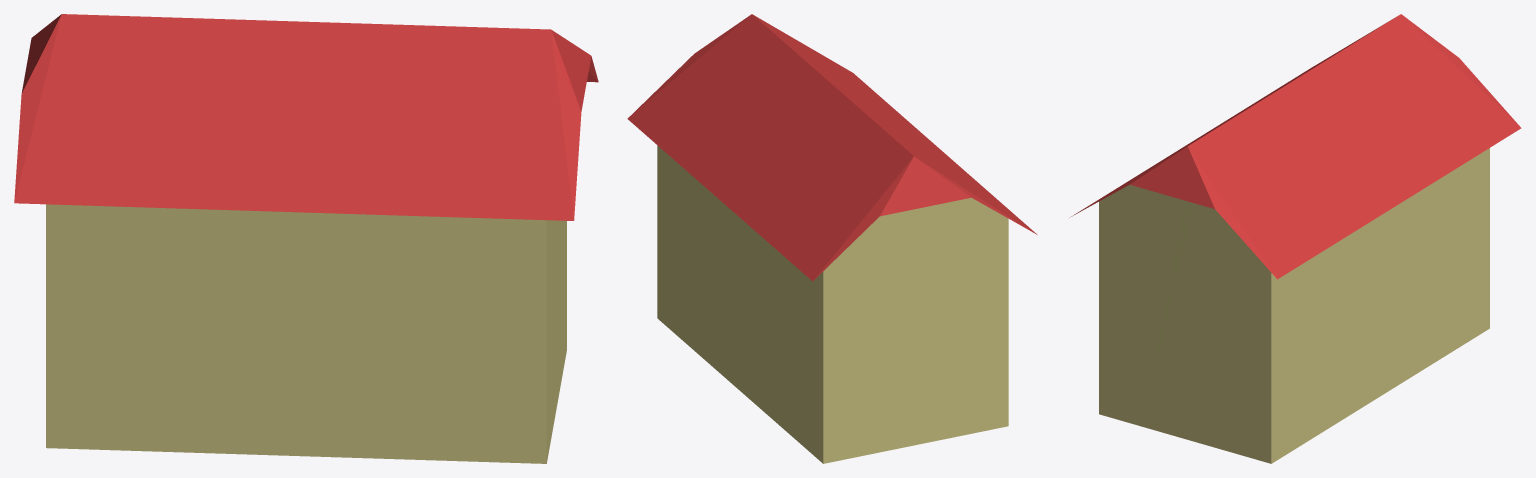
3 views of the same model, side by side, from view 1: azimuth 30°, elevation 25°; view 2: azimuth 150°, elevation 25°; view 3: azimuth 270°, elevation 25° (orthographic). The views are drawn at different scales.
Parts seen in each view (by area): view 1: group_5, group_3, group_4; view 2: group_5, group_3, group_4; view 3: group_5, group_3, group_4.
Part boxes in pixels (left/top/right/bottom): group_5: left=46, top=204, right=566, bottom=463; group_3: left=14, top=14, right=598, bottom=220; group_4: left=14, top=30, right=598, bottom=219; group_5: left=657, top=145, right=1008, bottom=463; group_3: left=628, top=14, right=1037, bottom=271; group_4: left=627, top=33, right=1036, bottom=281; group_5: left=1099, top=148, right=1489, bottom=463; group_3: left=1069, top=14, right=1489, bottom=279; group_4: left=1122, top=29, right=1521, bottom=279.
Bounding box in the file's own units: 21.93 × 19.87 × 14.06.
